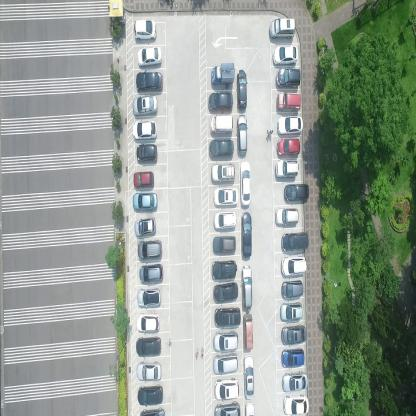car: (213, 376, 239, 402), (210, 61, 235, 88), (268, 17, 296, 41), (211, 351, 239, 375), (136, 69, 163, 93), (137, 45, 163, 69), (214, 305, 241, 328), (132, 94, 159, 117), (276, 114, 304, 136), (281, 230, 309, 252), (136, 286, 161, 310), (281, 323, 307, 346), (137, 383, 163, 406), (272, 44, 299, 66), (283, 394, 310, 416), (212, 330, 239, 352), (281, 371, 309, 392), (276, 66, 301, 89), (283, 182, 310, 203), (243, 354, 255, 401), (134, 18, 157, 42), (209, 114, 234, 136), (213, 282, 238, 304), (132, 119, 158, 140), (135, 335, 161, 356), (136, 361, 162, 382), (211, 260, 238, 280), (241, 210, 252, 259), (135, 142, 158, 165), (280, 278, 304, 300), (281, 347, 305, 369), (240, 159, 251, 207), (211, 163, 236, 184), (137, 239, 162, 260), (139, 263, 164, 284), (281, 256, 307, 276), (213, 186, 239, 206), (132, 191, 158, 211), (279, 301, 303, 322), (213, 210, 237, 231), (276, 137, 301, 157), (275, 158, 300, 178), (208, 140, 235, 158), (242, 262, 252, 310), (212, 236, 236, 256), (212, 400, 242, 416), (274, 207, 299, 226), (208, 92, 233, 111), (276, 92, 302, 110), (134, 216, 156, 237), (236, 68, 246, 112), (237, 114, 247, 158), (136, 314, 160, 332), (133, 169, 155, 188), (243, 311, 253, 352), (139, 405, 165, 415)
